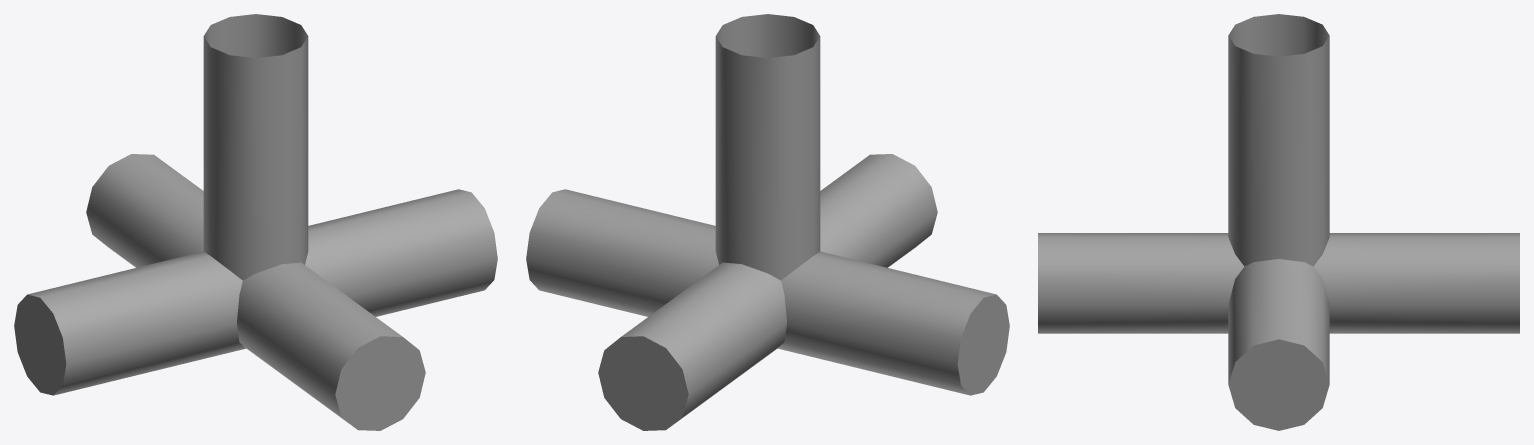
Rendered from SinkFaucetKnobL_11_SinkFaucetKnobL_11_1.obj.
3 renders of one model, left to right at view 1: azimuth 30°, elevation 25°; view 2: azimuth 150°, elevation 25°; view 3: azimuth 270°, elevation 25°, orthographic. The views are drawn at different scales.
Visible parts, largest first — view 1: SinkFaucetKnobL_11; view 2: SinkFaucetKnobL_11; view 3: SinkFaucetKnobL_11.
Boxes of the visible parts, x1,y1,x2,y2 form: SinkFaucetKnobL_11: (14,14,497,430); SinkFaucetKnobL_11: (526,14,1009,430); SinkFaucetKnobL_11: (1038,14,1519,430).
Size of the model in its own units: 0.0983 by 0.0661 by 0.0983.
